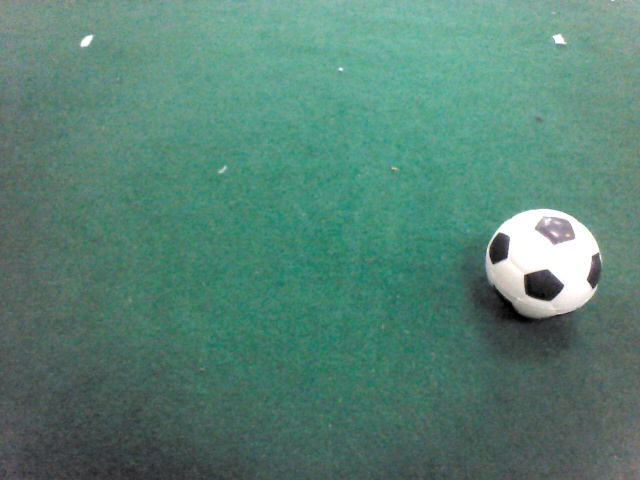ball: (482, 206, 604, 321)
